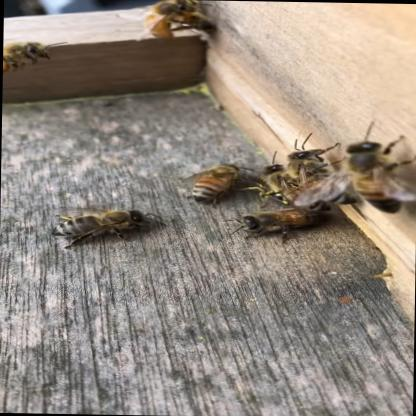bee: (240, 126, 410, 247), (48, 190, 168, 254), (158, 156, 242, 215), (2, 32, 61, 78)
